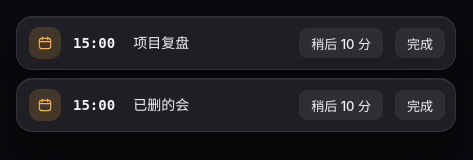
Test case: 日程主动提醒弹条 › 操作失败时保留弹条并提示重试；日程已删则直接收起
This screenshot has width=473, height=160.
What coordinates should you click on to do the following:
click the button "完成" in the row of "项目复盘"
I would click on:
 (420, 43)
Its box is [395,28,445,58].
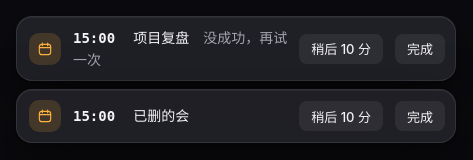
Expected: the text "项目复盘" is shown, [133,29,189,46]
Expected: the text "没成功，再试一次" is shown, [73,29,287,68]
What coordinates should you click on to do the following:
click the button "完成" in the row of "已删的会"
I would click on:
 (420, 116)
Its box is [395,101,445,131].
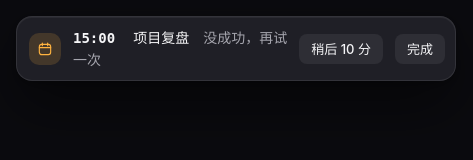
Expected: the text "已删的会" is gone
